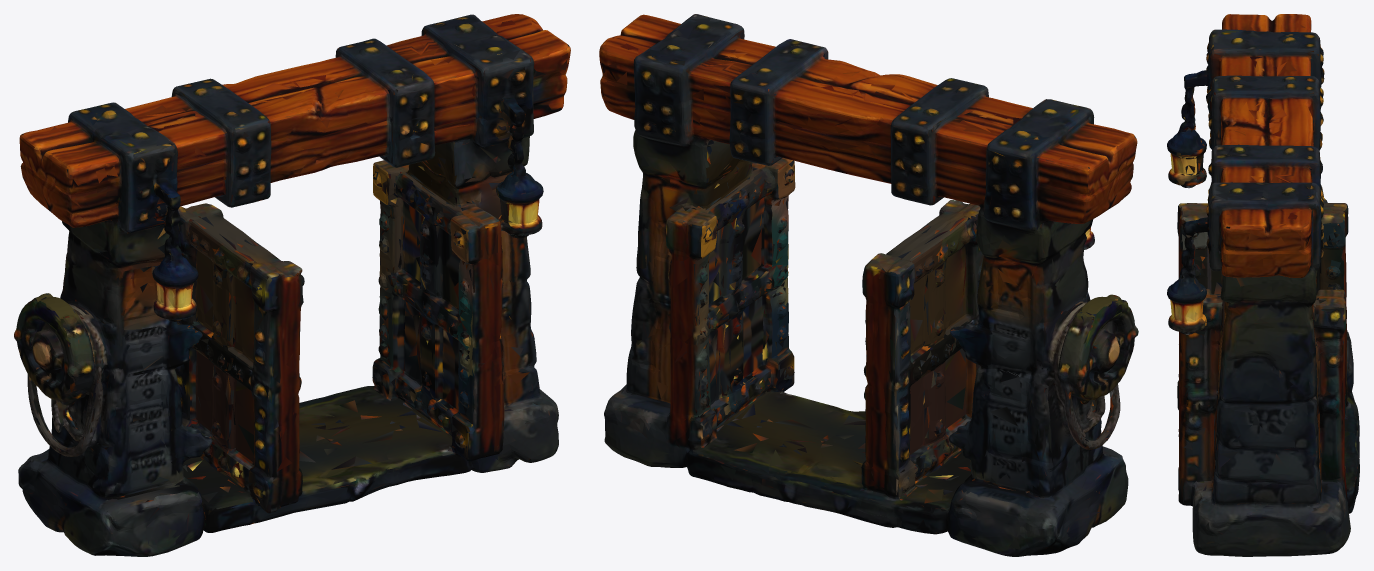
File: surface-gate.glb
3 views of the same model, side by side, from view 1: azimuth 30°, elevation 25°; view 2: azimuth 150°, elevation 25°; view 3: azimuth 270°, elevation 25° (orthographic). The views are drawn at different scales.
Visible parts, largest first — view 1: geometry_0; view 2: geometry_0; view 3: geometry_0.
Boxes of the visible parts, <box> form: geometry_0: <box>14,14,570,556</box>; geometry_0: <box>599,14,1138,556</box>; geometry_0: <box>1167,14,1359,556</box>.
Bounding box in the file's own units: 2.63 × 2 × 0.9942.
Materials: 1 (1 with a texture image).
